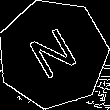N_SE: (23, 22, 83, 86)
